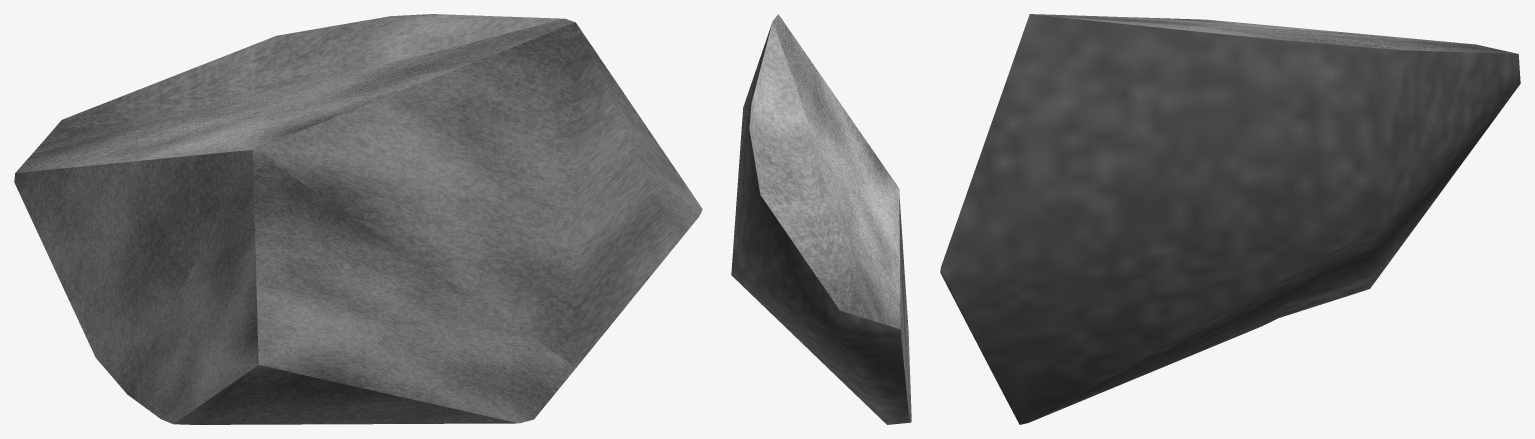
Rendered from body_cell_019.fbx.
3 renders of one model, left to right at view 1: azimuth 30°, elevation 25°; view 2: azimuth 150°, elevation 25°; view 3: azimuth 270°, elevation 25°, orthographic. The views are drawn at different scales.
Parts seen in each view (by area): view 1: body_cell.019; view 2: body_cell.019; view 3: body_cell.019.
Boxes of the visible parts, left/top/right/bottom form: body_cell.019: left=14, top=14, right=702, bottom=424; body_cell.019: left=731, top=14, right=911, bottom=424; body_cell.019: left=940, top=14, right=1520, bottom=424.
Size of the model in its own units: 49.76 by 42.97 by 48.31.
